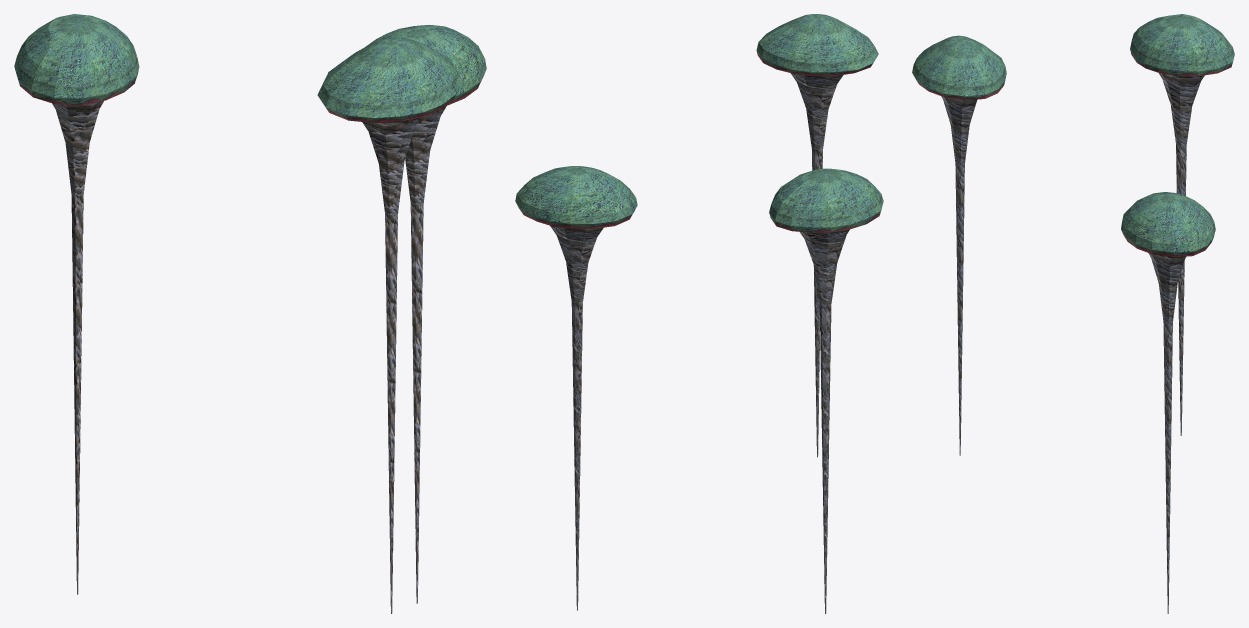
The model's file is 2P_Frog_forest0.obj.
The picture shows the model from 3 angles, left to right: view 1: azimuth 30°, elevation 25°; view 2: azimuth 150°, elevation 25°; view 3: azimuth 270°, elevation 25°; orthographic projection. The views are drawn at different scales.
Visible parts, largest first — view 1: Object_2; view 2: Object_2; view 3: Object_2.
Boxes of the visible parts, x1,y1,x2,y2 form: Object_2: (14,14,486,613); Object_2: (515,14,883,613); Object_2: (912,14,1234,613).
Size of the model in its own units: 10728 by 15850 by 9028.
4 materials, 4 textured.
